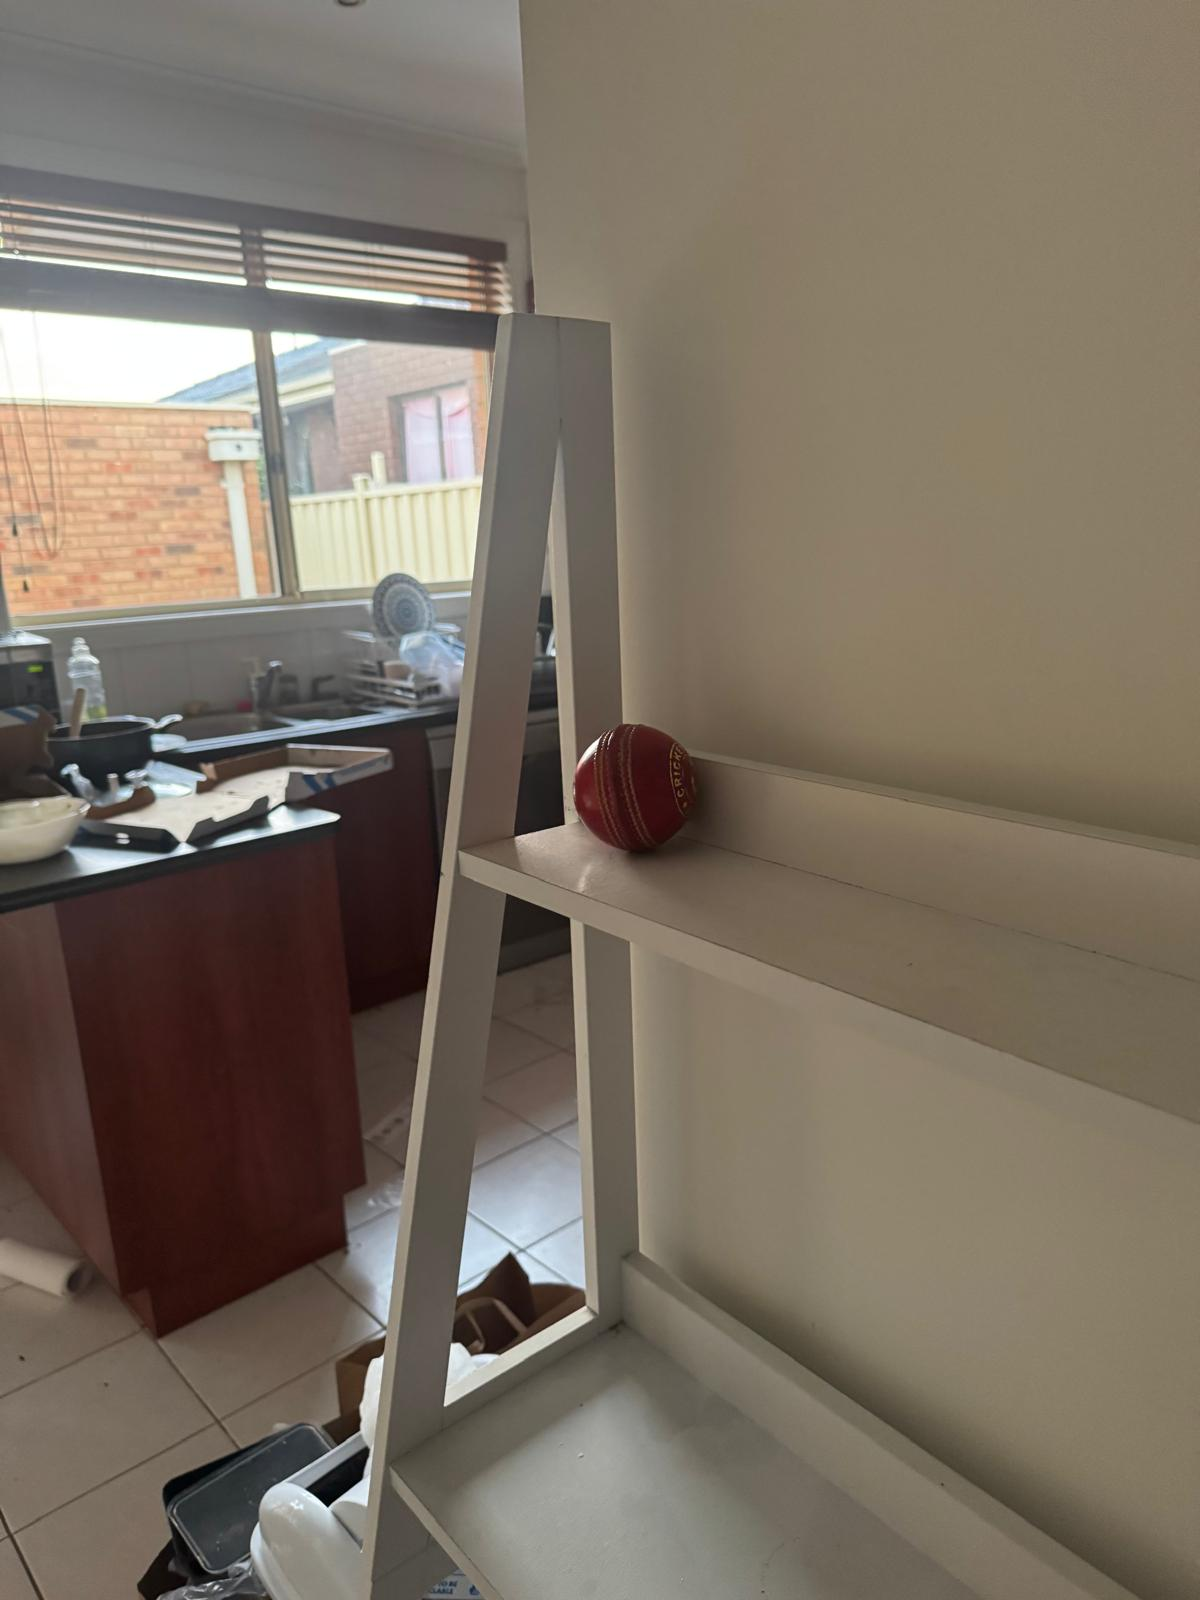Red_Ball: (561, 700, 707, 858)
